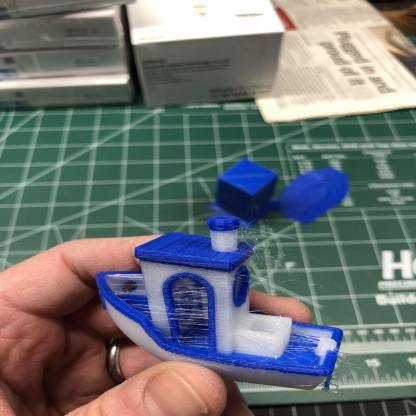fail: (237, 227, 285, 268), (175, 284, 208, 339), (109, 275, 148, 301), (293, 334, 315, 359)
